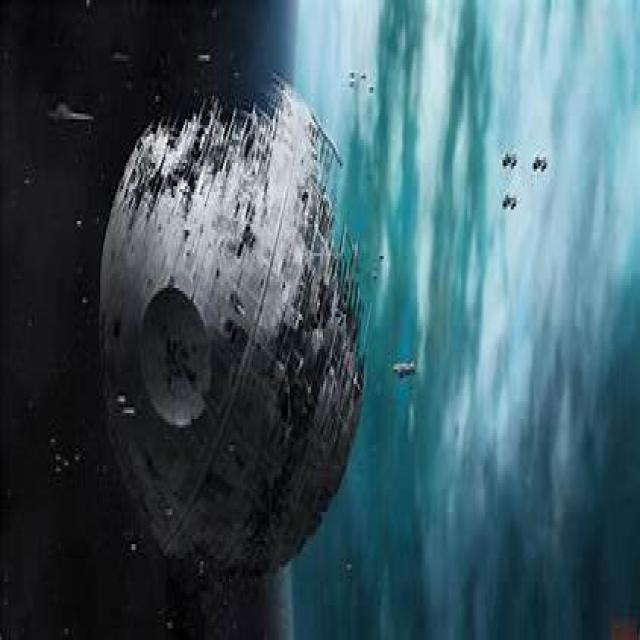deathStar: (94, 75, 368, 590)
